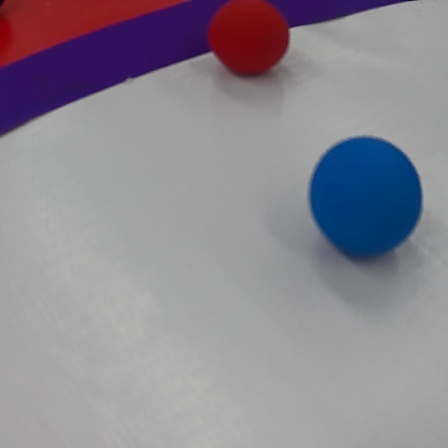blue: (307, 133, 422, 261)
red: (203, 2, 291, 83)
